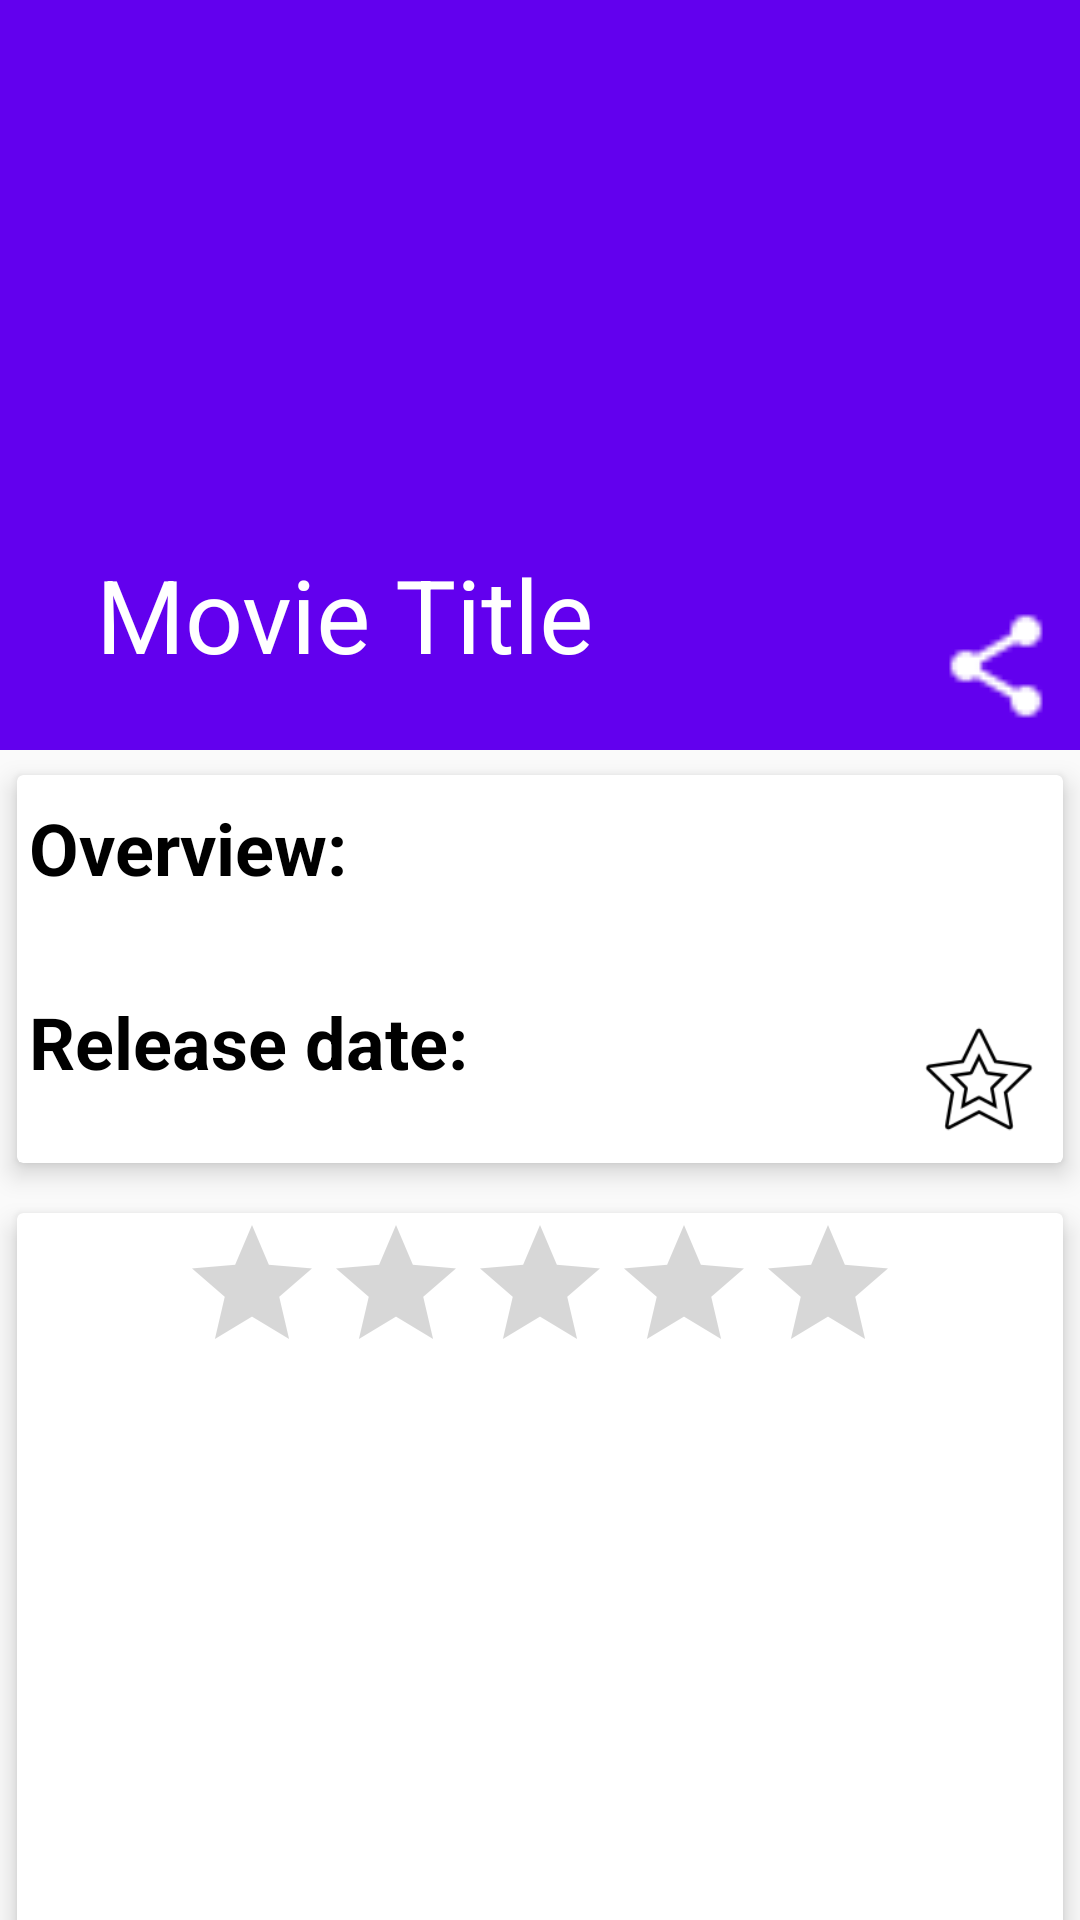

Where to tap for icons on this 1080x1920 app screen, as (x,y):
share: (996,666)
star: (979,1079)
